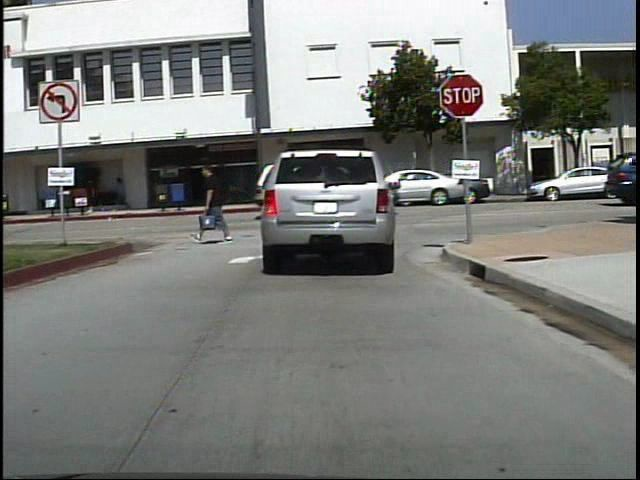person: (196, 158, 235, 245), (115, 173, 134, 212), (90, 172, 109, 209)
